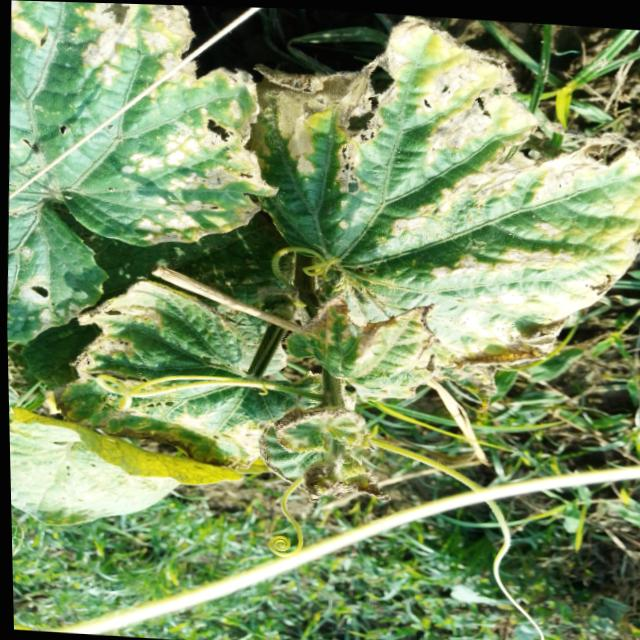Gummy-Stem-Blight: (47, 277, 166, 429), (253, 402, 392, 510), (246, 66, 368, 181), (296, 292, 443, 383)
